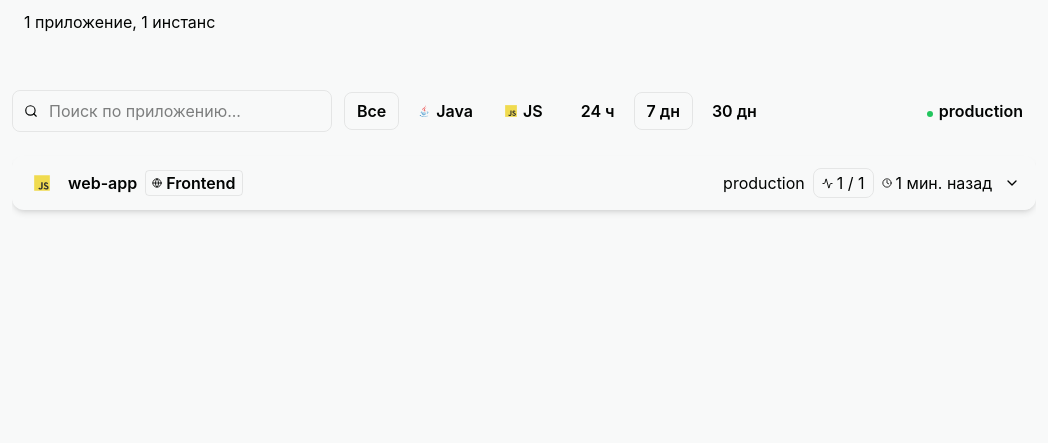
Test: ClientInstances › loads activation usage on expand and shows flags with observed rate
This screenshot has width=1048, height=443.
Click the text "web-app". click: [103, 183]
box: [68, 171, 137, 195]
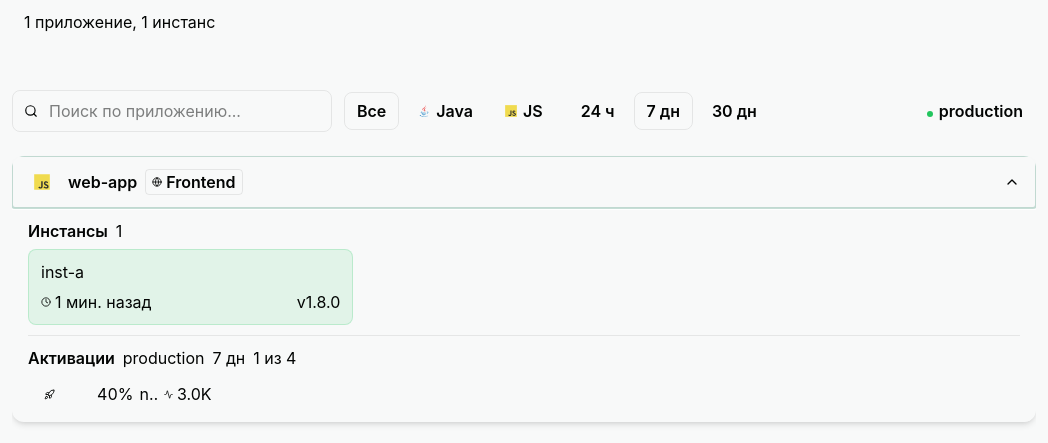
Now the text "1 из 4" is shown, box [253, 346, 296, 370]
Now the text "new-checkout" is shown, box [140, 382, 158, 406]
Now the text "40%" is shown, box [97, 382, 134, 406]
